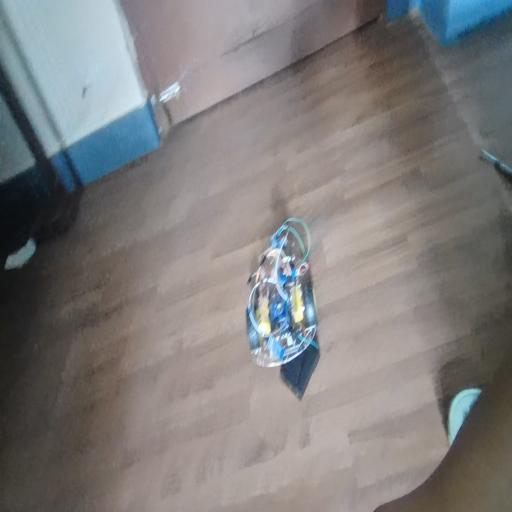car: (234, 232, 340, 390)
